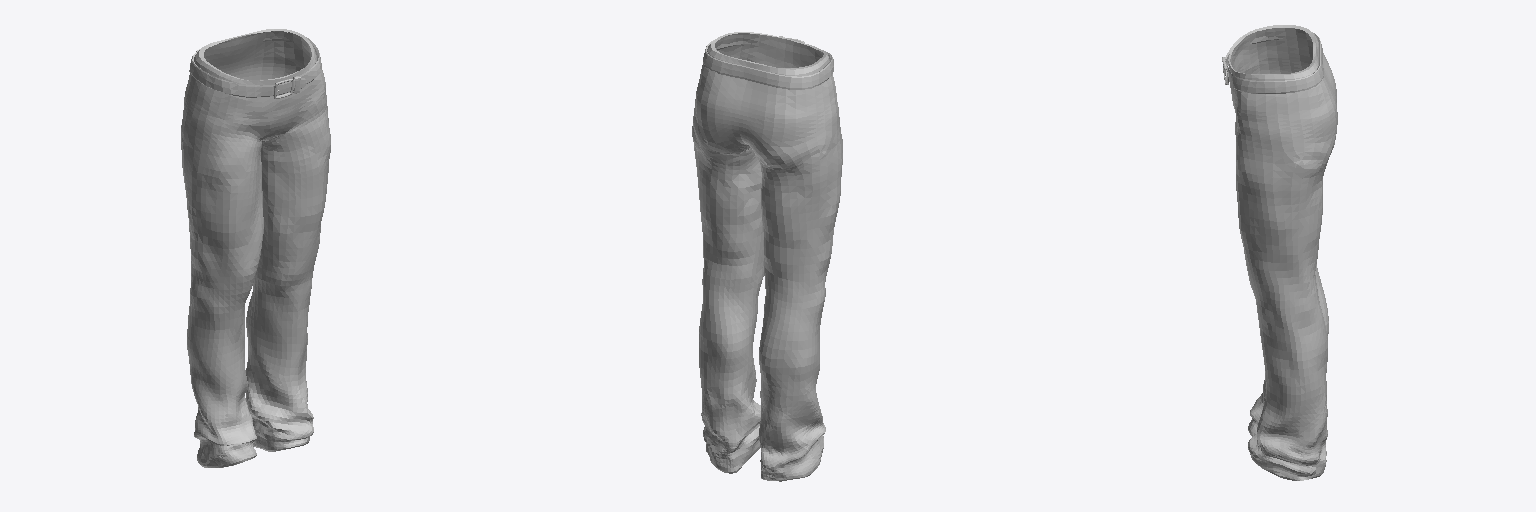
Rendered from manpants1.obj.
3 renders of one model, left to right at view 1: azimuth 30°, elevation 25°; view 2: azimuth 150°, elevation 25°; view 3: azimuth 270°, elevation 25°, orthographic.
Parts seen in each view (by area): view 1: Jeans; view 2: Jeans; view 3: Jeans.
Boxes of the visible parts, box(x1,y1,x2,y2) form: Jeans: box(181, 29, 330, 467); Jeans: box(692, 32, 842, 481); Jeans: box(1222, 25, 1337, 480).
Bounding box in the file's own units: 36.13 × 107 × 27.01.